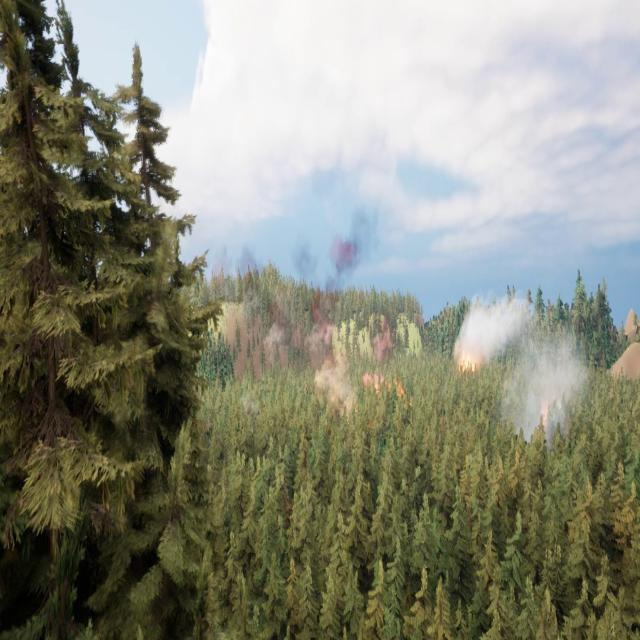fire: (363, 356, 408, 412), (455, 346, 485, 374)
smoke: (227, 208, 375, 363), (462, 289, 586, 438)
